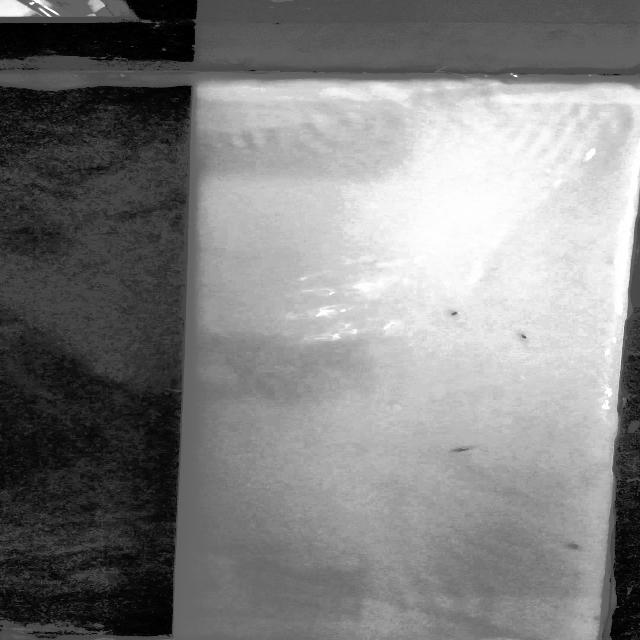shrimp: (448, 439, 486, 458), (508, 326, 536, 349), (442, 304, 473, 323), (573, 541, 586, 552)
